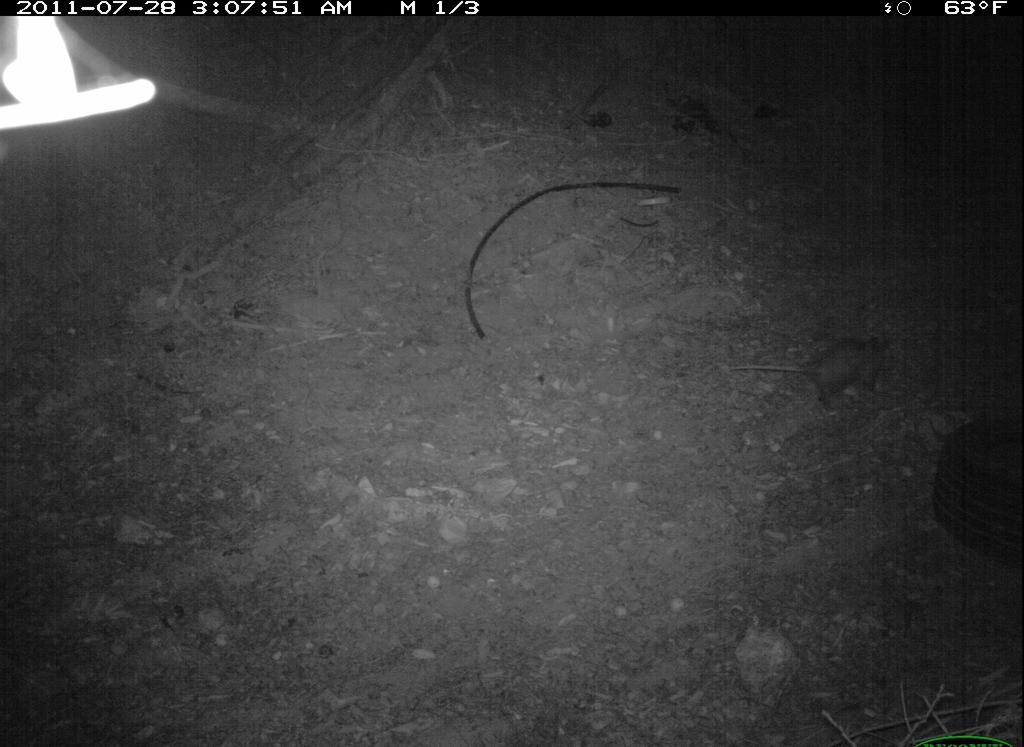opossum: (719, 308, 920, 433)
